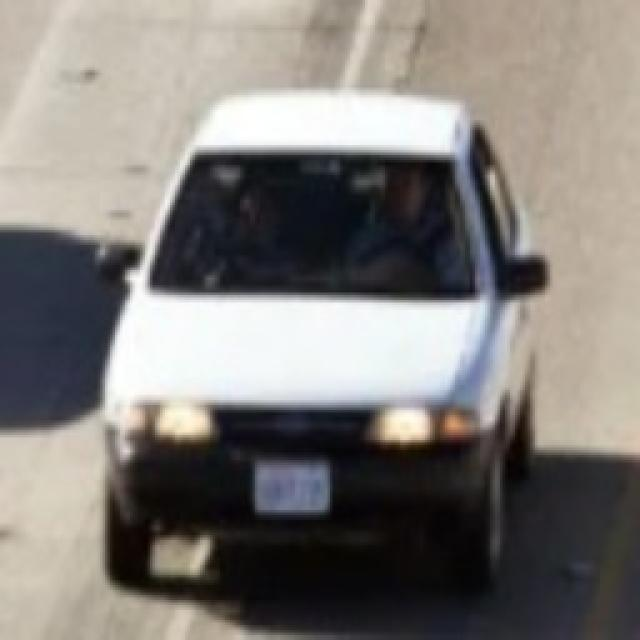windshield: (144, 130, 487, 322)
